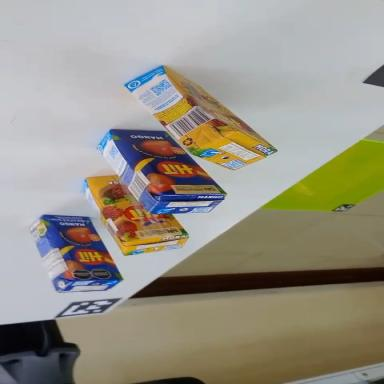HIT-MANGO: (89, 103, 228, 243), (21, 196, 124, 312)
HIT-MORA: (117, 49, 278, 195), (63, 162, 193, 280)
cara_F: (105, 103, 227, 226), (70, 162, 193, 269), (162, 60, 276, 159), (40, 196, 124, 301)
